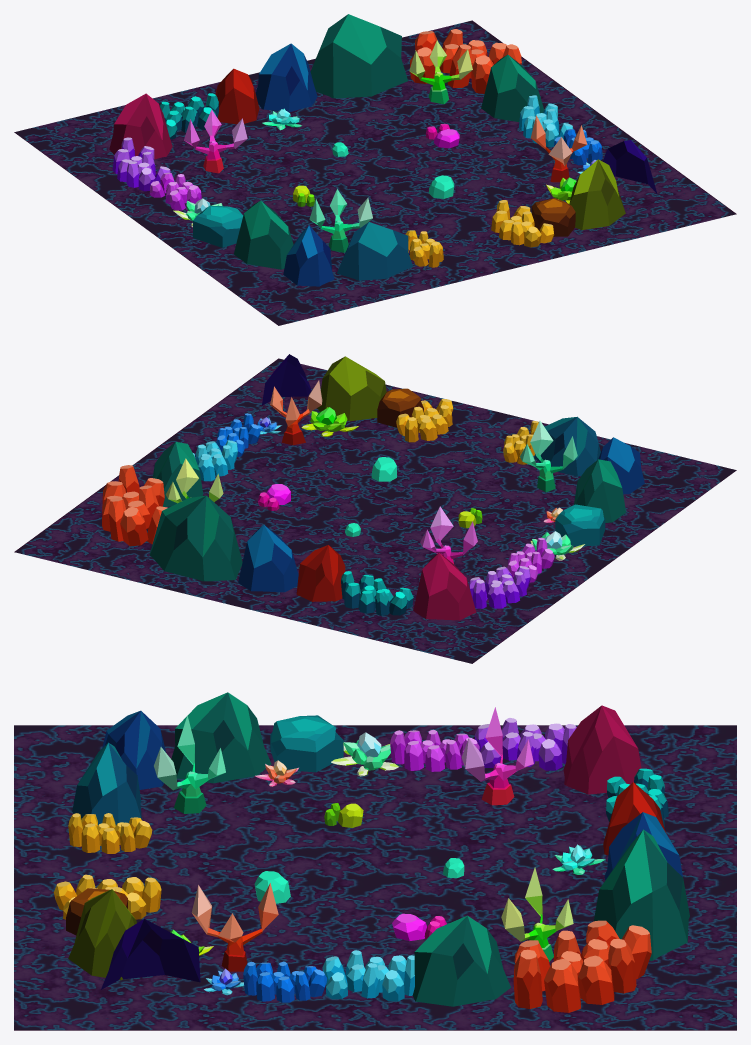
The model's file is huntingPanetMesh.glb.
3 views of the same model, one above another, from view 1: azimuth 30°, elevation 25°; view 2: azimuth 150°, elevation 25°; view 3: azimuth 270°, elevation 25° (orthographic). The views are drawn at different scales.
Parts seen in each view (by area): view 1: Cylinder.012; view 2: Cylinder.012; view 3: Cylinder.012.
Part boxes in pixels (left/top/right/bottom): Cylinder.012: left=14, top=14, right=736, bottom=325; Cylinder.012: left=14, top=354, right=736, bottom=663; Cylinder.012: left=14, top=692, right=736, bottom=1030.
Size of the model in its own units: 500 by 80.96 by 500.
2 materials, 2 textured.
